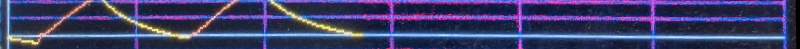normal_volume: (0, 0, 392, 46)
